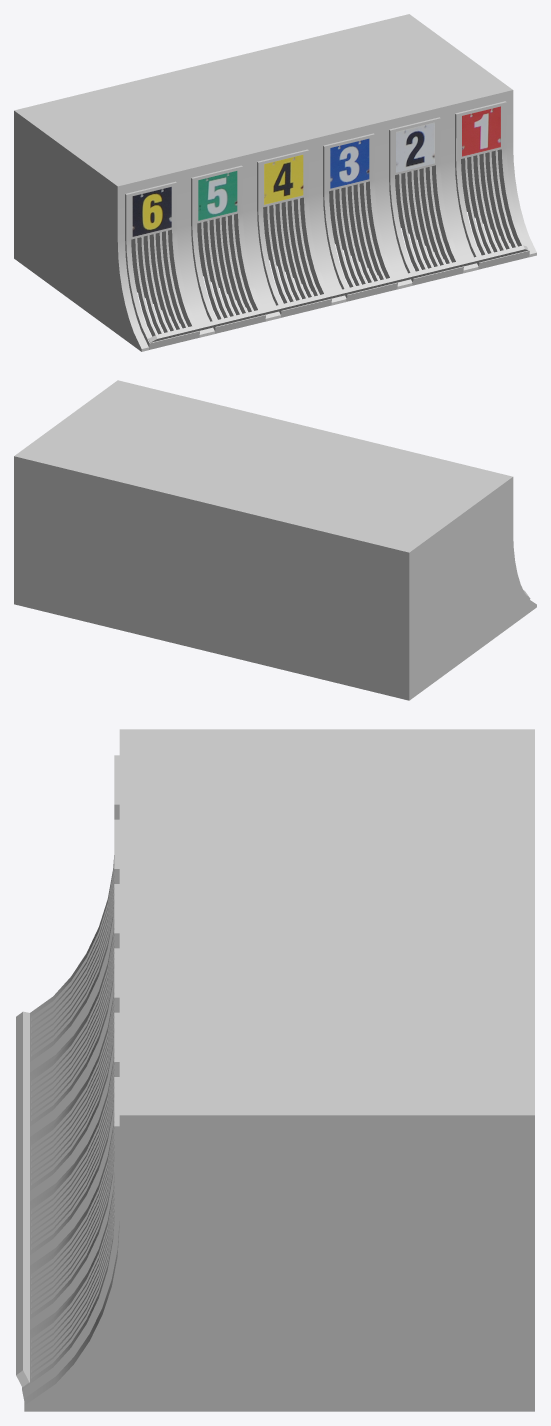
File: Starting_Trap_6Box.fbx
The picture shows the model from 3 angles, top to bottom: view 1: azimuth 30°, elevation 25°; view 2: azimuth 150°, elevation 25°; view 3: azimuth 270°, elevation 25°; orthographic projection. The views are drawn at different scales.
Parts seen in each view (by area): view 1: Starting_Box_Body, Doors_Mesh, Numbers, Bar; view 2: Starting_Box_Body; view 3: Starting_Box_Body, Doors_Mesh, Bar.
Boxes of the visible parts, box(x1,y1,x2,y2) form: Starting_Box_Body: box(14, 14, 536, 351); Doors_Mesh: box(125, 101, 529, 349); Numbers: box(132, 106, 500, 236); Bar: box(148, 245, 528, 342); Starting_Box_Body: box(14, 380, 536, 700); Starting_Box_Body: box(24, 729, 534, 1411); Doors_Mesh: box(22, 755, 119, 1400); Bar: box(16, 1011, 29, 1387).
Size of the model in its own units: 3.07 by 1.1 by 1.74.
Materials: 2 (1 with a texture image).
